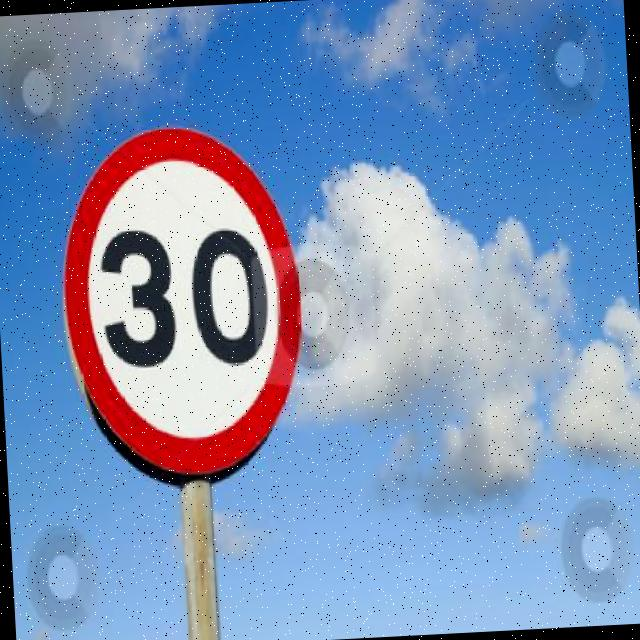Ograniczenie predkosci do 30: (55, 118, 317, 493)
